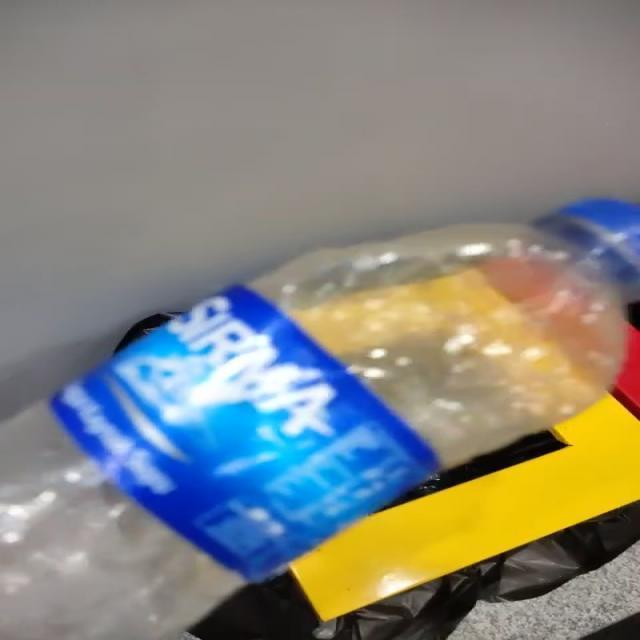Plastic: (1, 200, 637, 640)
